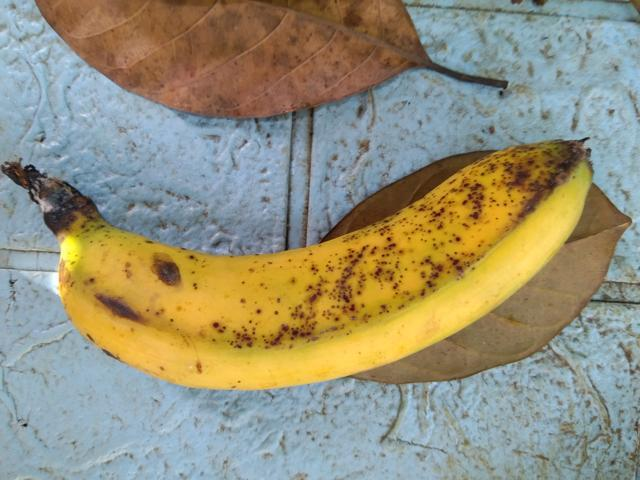ripe: (61, 118, 604, 412)
